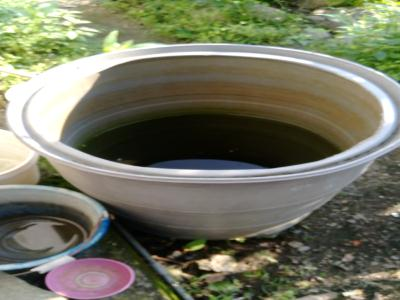bowl: (43, 256, 137, 300)
bucket: (2, 42, 399, 241), (1, 181, 114, 279)
